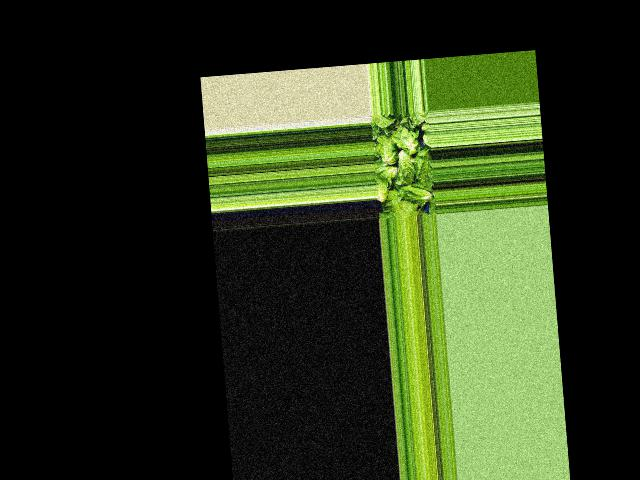lettuce: (375, 171, 391, 207)
